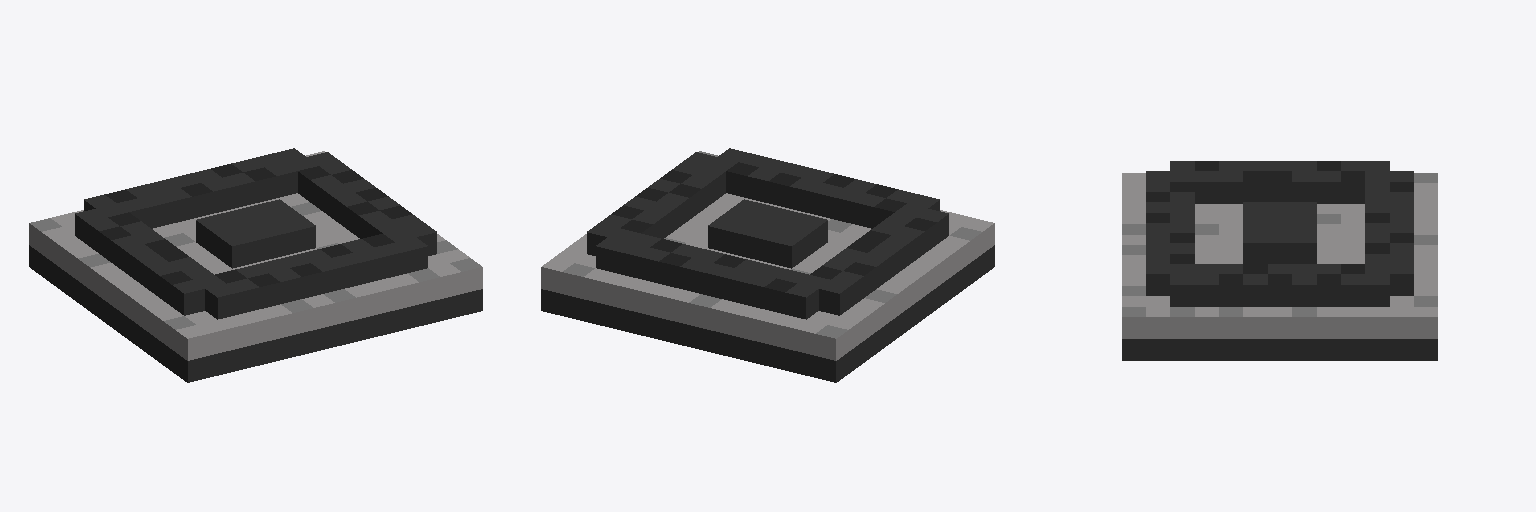
The picture shows the model from 3 angles: view 1: azimuth 30°, elevation 25°; view 2: azimuth 150°, elevation 25°; view 3: azimuth 270°, elevation 25°; orthographic projection.
Parts seen in each view (by area): view 1: cube; view 2: cube; view 3: cube.
Boxes of the visible parts, x1,y1,x2,y2 form: cube: [29, 148, 482, 382]; cube: [541, 148, 994, 382]; cube: [1122, 161, 1437, 360].
Size of the model in its own units: 0.875 by 0.1875 by 0.8125.
1 materials, 1 textured.